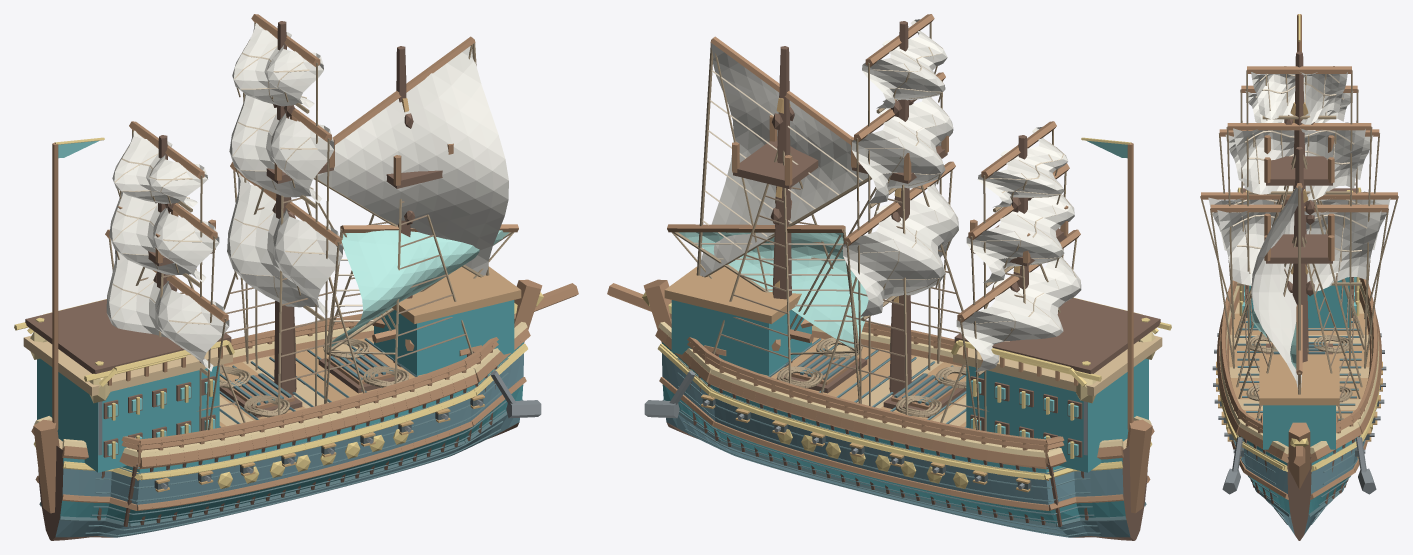
The model's file is atlantis_carrier-v5-mobile.glb.
3 views of the same model, side by side, from view 1: azimuth 30°, elevation 25°; view 2: azimuth 150°, elevation 25°; view 3: azimuth 270°, elevation 25° (orthographic). The views are drawn at different scales.
Visible parts, largest first — view 1: atlantis_carrier_sails_white, atlantis_carrier_deck_teal, atlantis_carrier_hull_hull2, atlantis_carrier_hull_blue, atlantis_carrier_hull_ghostdark, atlantis_carrier_sails_mint, atlantis_carrier_deck_darkwood, atlantis_carrier_railings_hull2, atlantis_carrier_hull_teal, atlantis_carrier_rigging_hull2, atlantis_carrier_rigging_rope, atlantis_carrier_masts_darkwood (+21 smaller); view 2: atlantis_carrier_sails_white, atlantis_carrier_deck_teal, atlantis_carrier_hull_hull2, atlantis_carrier_hull_blue, atlantis_carrier_masts_darkwood, atlantis_carrier_rigging_rope, atlantis_carrier_hull_ghostdark, atlantis_carrier_deck_darkwood, atlantis_carrier_rigging_hull2, atlantis_carrier_sails_mint, atlantis_carrier_hull_teal, atlantis_carrier_railings_hull2 (+21 smaller); view 3: atlantis_carrier_sails_white, atlantis_carrier_rigging_rope, atlantis_carrier_masts_darkwood, atlantis_carrier_rigging_hull2, atlantis_carrier_hull_hull2, atlantis_carrier_deck_teal, atlantis_carrier_deck_wood, atlantis_carrier_masts_rope, atlantis_carrier_hull_wood, atlantis_carrier_railings_hull2, atlantis_carrier_hull_ghostdark, atlantis_carrier_hull_blue (+15 smaller).
Boxes of the visible parts, x1,y1,x2,y2 form: atlantis_carrier_sails_white: (106, 23, 508, 371); atlantis_carrier_deck_teal: (37, 300, 514, 472); atlantis_carrier_hull_hull2: (31, 279, 578, 513); atlantis_carrier_hull_blue: (55, 353, 523, 537); atlantis_carrier_hull_ghostdark: (39, 338, 523, 536); atlantis_carrier_sails_mint: (329, 230, 509, 346); atlantis_carrier_deck_darkwood: (25, 299, 231, 457); atlantis_carrier_railings_hull2: (121, 313, 498, 463); atlantis_carrier_hull_teal: (60, 342, 523, 523); atlantis_carrier_rigging_hull2: (105, 14, 518, 322); atlantis_carrier_rigging_rope: (108, 22, 514, 431); atlantis_carrier_masts_darkwood: (148, 21, 442, 395); atlantis_carrier_sails_white: (700, 19, 1081, 371); atlantis_carrier_deck_teal: (671, 300, 1148, 472); atlantis_carrier_hull_hull2: (607, 279, 1154, 513); atlantis_carrier_hull_blue: (662, 353, 1130, 537); atlantis_carrier_masts_darkwood: (733, 21, 1066, 395); atlantis_carrier_rigging_rope: (671, 22, 1077, 431); atlantis_carrier_hull_ghostdark: (662, 338, 1146, 536); atlantis_carrier_deck_darkwood: (954, 298, 1160, 457); atlantis_carrier_rigging_hull2: (667, 14, 1080, 322); atlantis_carrier_sails_mint: (678, 232, 868, 347); atlantis_carrier_hull_teal: (662, 342, 1125, 523); atlantis_carrier_railings_hull2: (687, 321, 1064, 463); atlantis_carrier_sails_white: (1208, 66, 1390, 387); atlantis_carrier_rigging_rope: (1200, 70, 1398, 394); atlantis_carrier_masts_darkwood: (1266, 51, 1332, 362); atlantis_carrier_rigging_hull2: (1201, 66, 1397, 374); atlantis_carrier_hull_hull2: (1217, 286, 1381, 499); atlantis_carrier_deck_teal: (1247, 277, 1351, 449); atlantis_carrier_deck_wood: (1259, 354, 1339, 405); atlantis_carrier_masts_rope: (1234, 154, 1364, 420); atlantis_carrier_hull_wood: (1229, 295, 1369, 421); atlantis_carrier_railings_hull2: (1220, 277, 1378, 433); atlantis_carrier_hull_ghostdark: (1233, 298, 1365, 524); atlantis_carrier_hull_blue: (1234, 440, 1364, 534).
Bounding box in the file's own units: 55.49 × 46.24 × 20.91.
